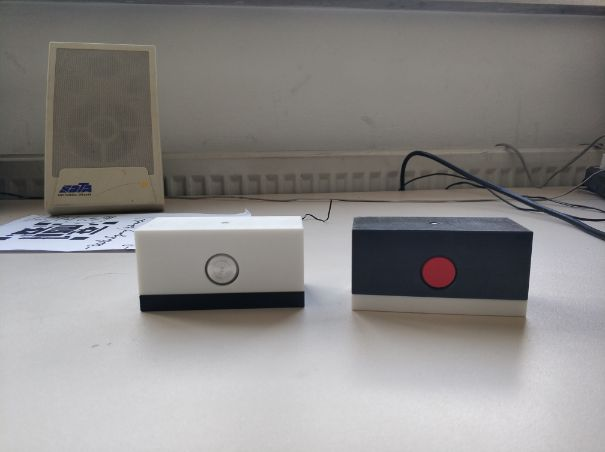black+white+silver: (133, 213, 309, 316)
white+black+red: (349, 214, 535, 320)
